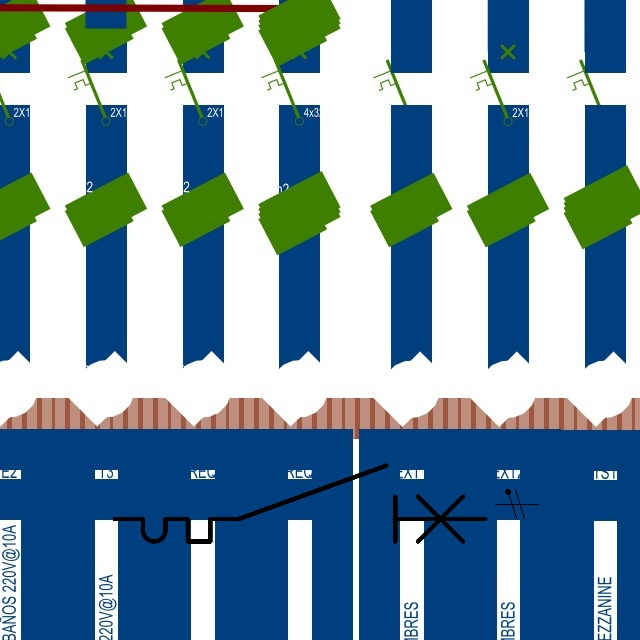interruptor_termomagnetico: (105, 456, 495, 551)
